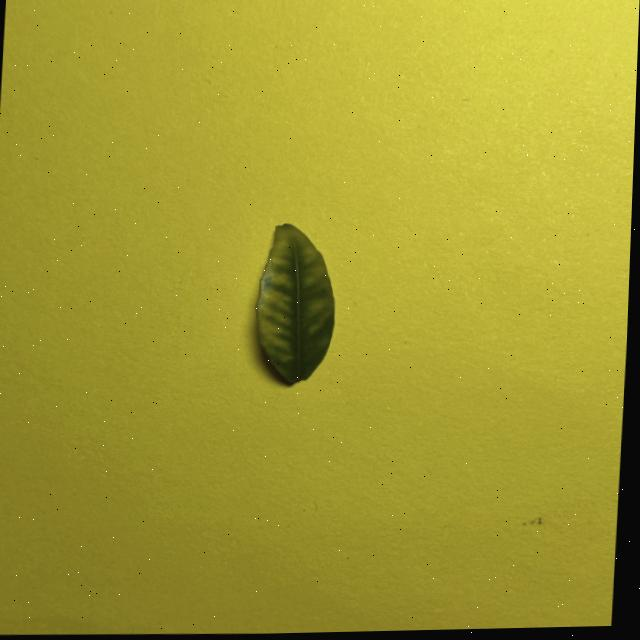greening: (256, 223, 334, 382)
